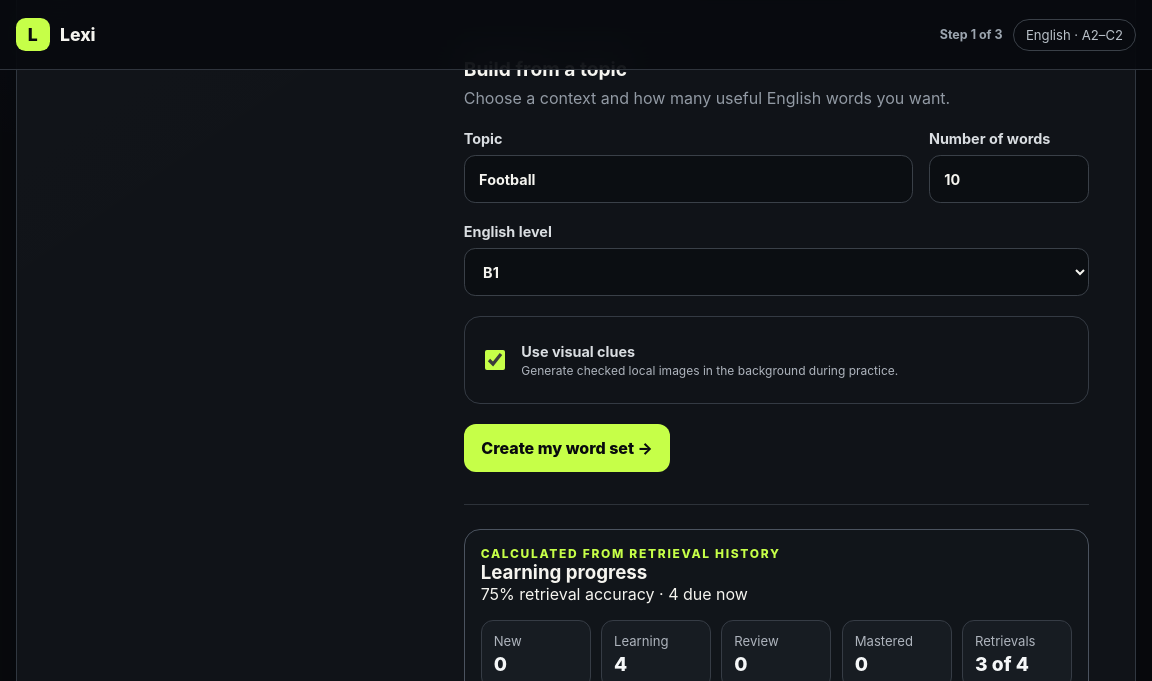
VocabularyPage › starts a local adaptive review without generation when visual clues are disabled
(page scrolled)
Click the checkbox labelled "Use visual clues".
click(495, 360)  # box [485,336,505,384]
(page scrolled)
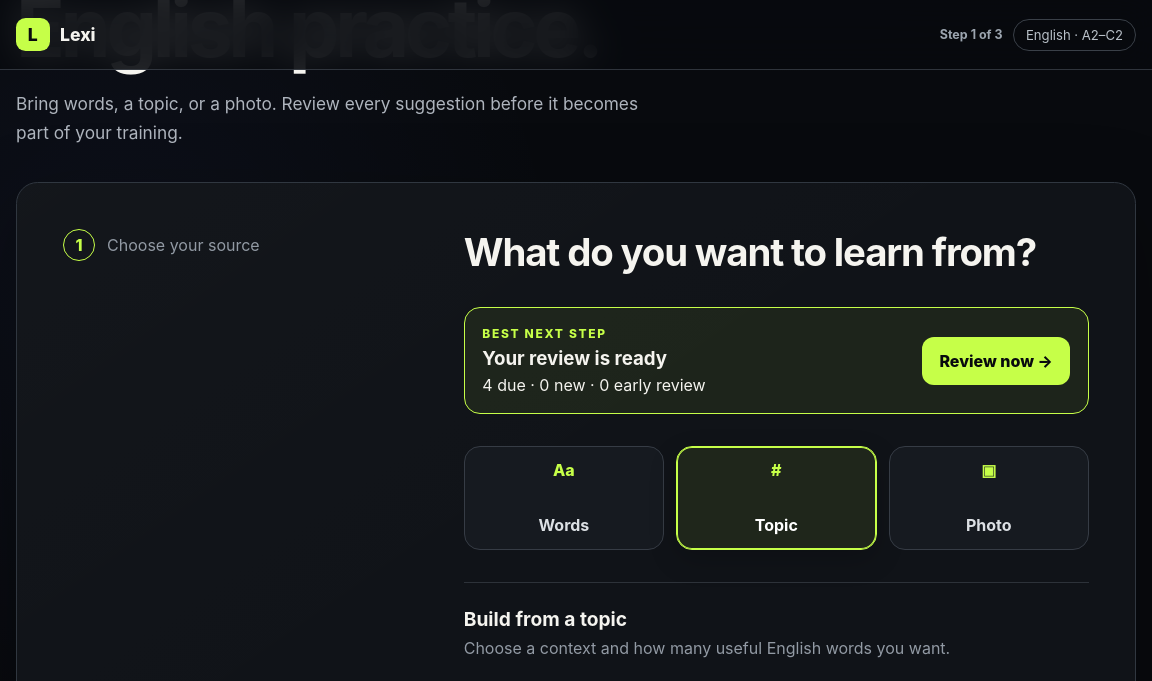
Click the button with aria-label "Start adaptive review".
click(996, 360)  # box [922,336,1070,384]
(page scrolled)
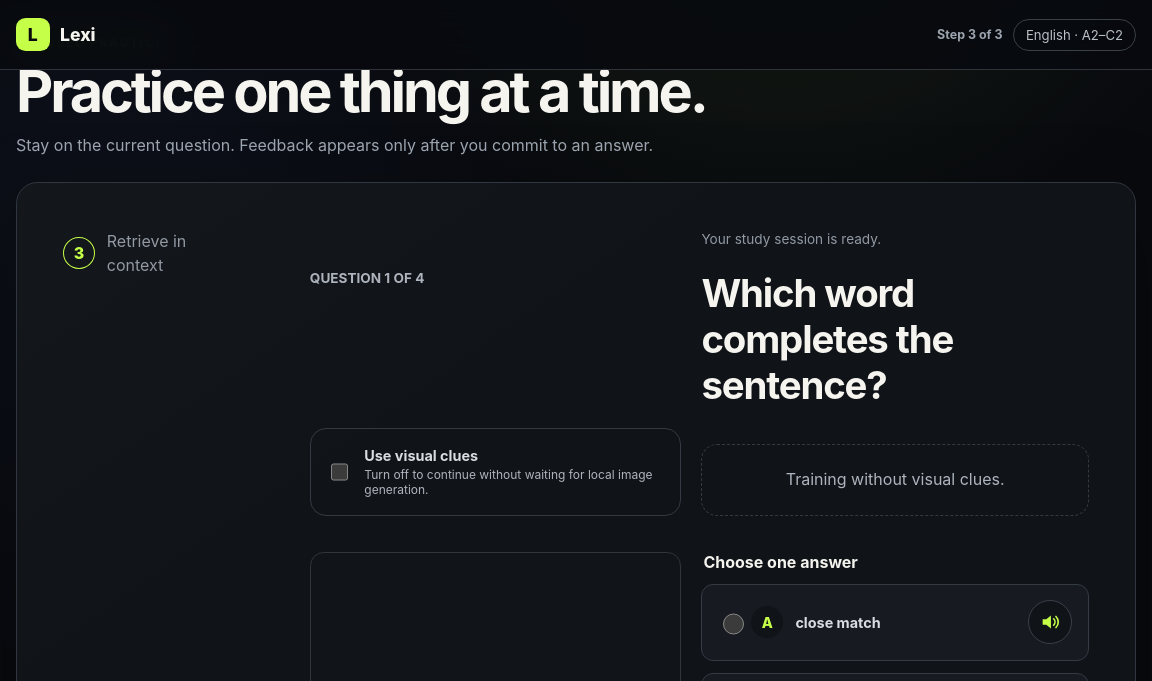
Expected: the text "Question 1 of 4" is shown, [310,270,424,286]
Expected: the text "Training without visual clues." is shown, [701,444,1089,516]
